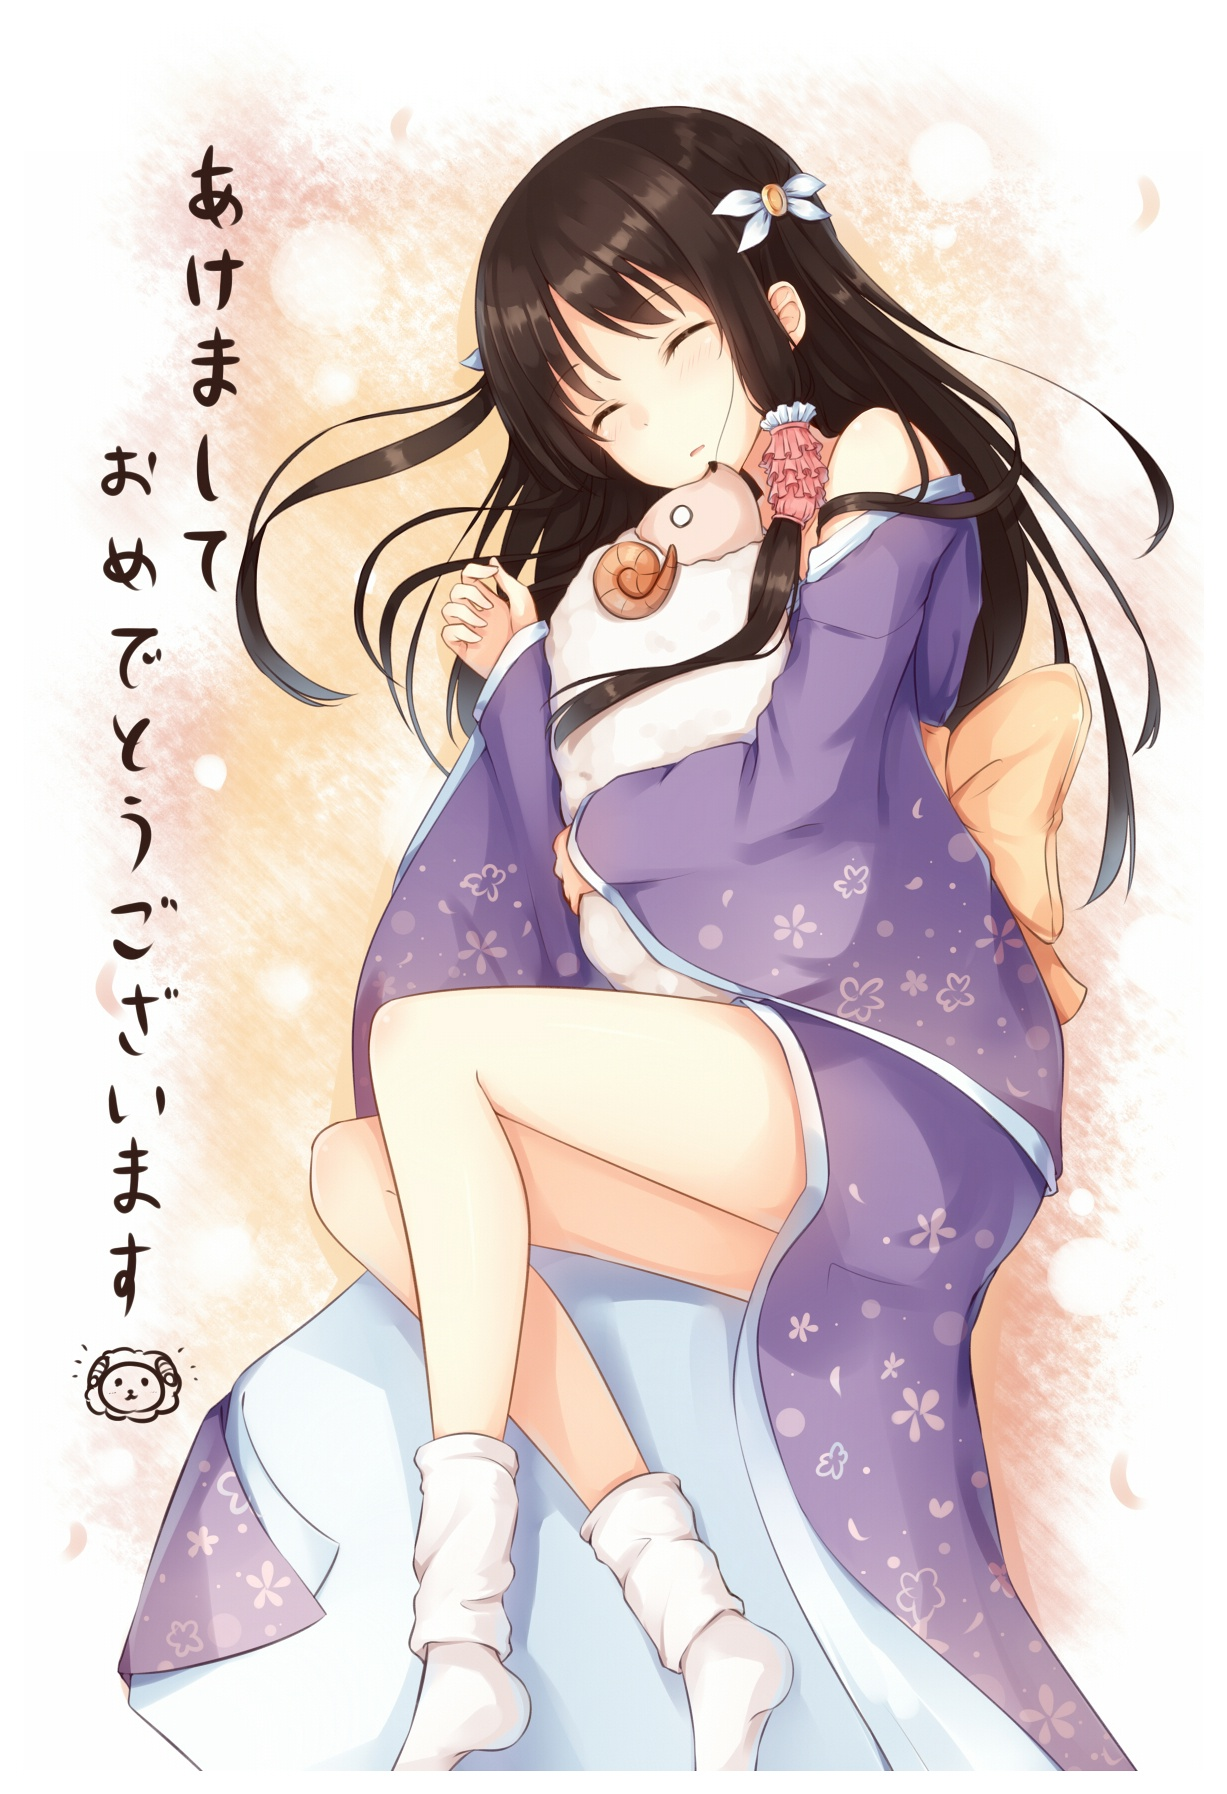纸片人正脸: (469, 98, 892, 550)
